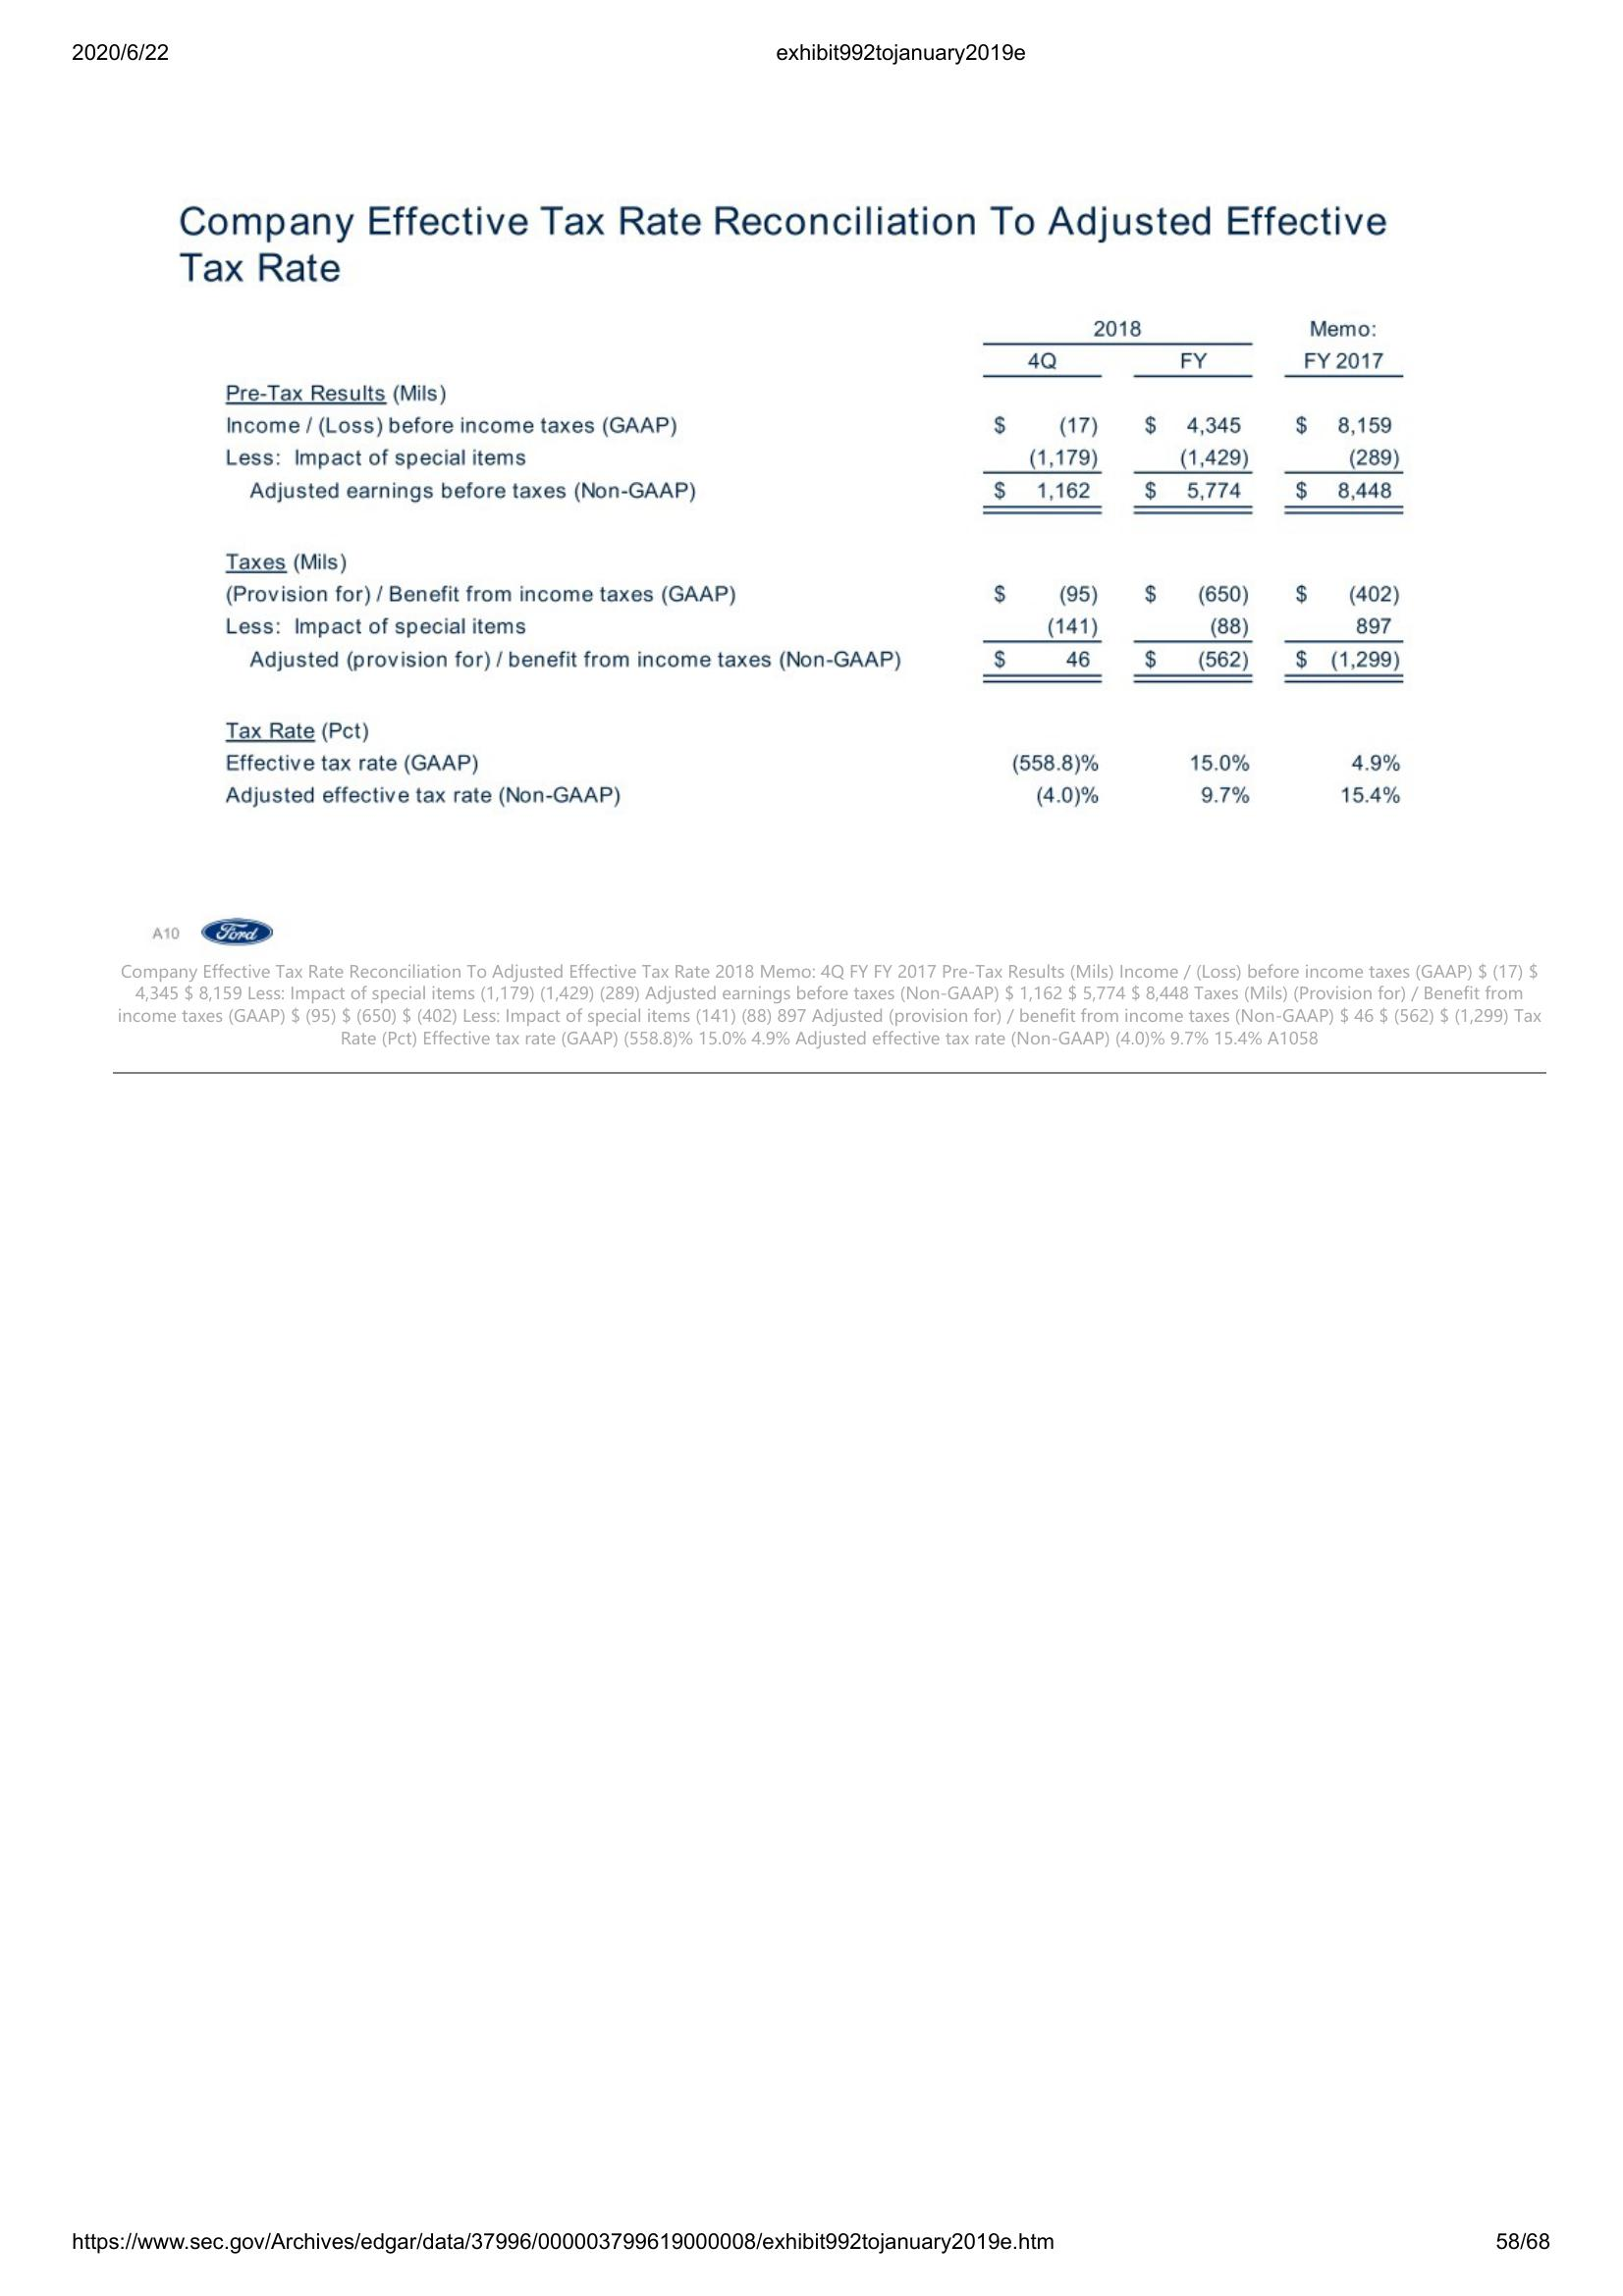table: (216, 312, 1416, 814)
